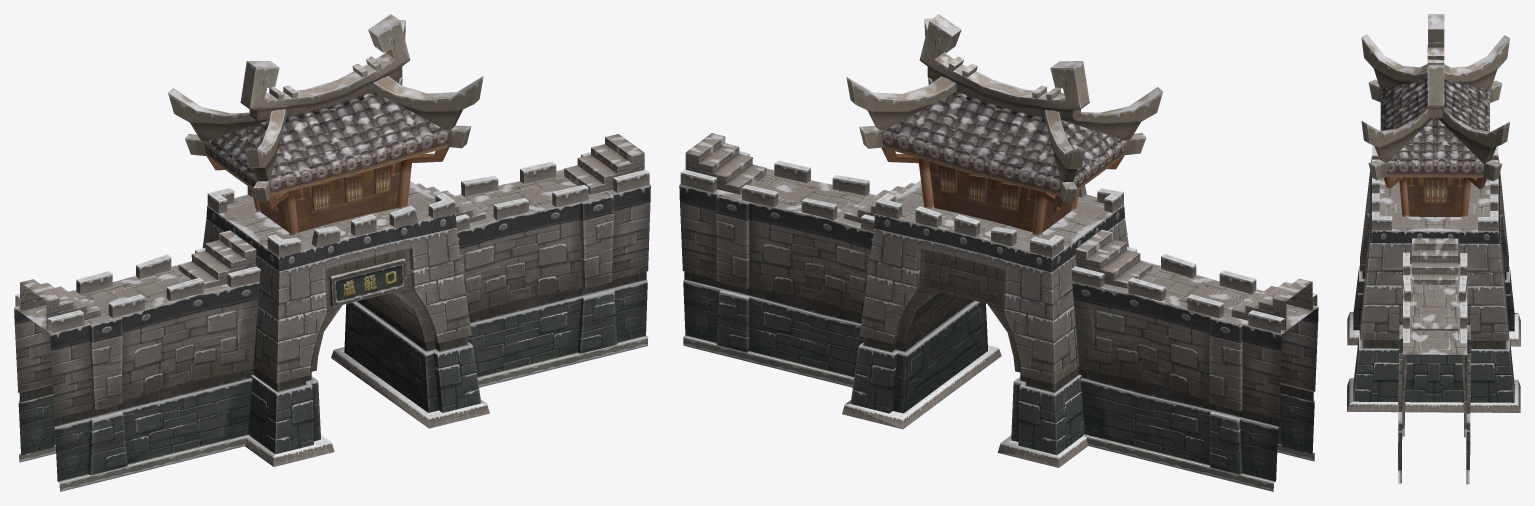
File: door.obj
The picture shows the model from 3 angles, left to right: view 1: azimuth 30°, elevation 25°; view 2: azimuth 150°, elevation 25°; view 3: azimuth 270°, elevation 25°; orthographic projection. The views are drawn at different scales.
Parts seen in each view (by area): view 1: group pasted__DrawCall_0554, group pasted__DrawCall_0560, group pasted__DrawCall_0566, group pasted__DrawCall_0565, group pasted__DrawCall_0573, group pasted__DrawCall_0513, group pasted__DrawCall_0514, group pasted__DrawCall_0576, group pasted__DrawCall_0570, group pasted__DrawCall_0552, group pasted__DrawCall_0558, group pasted__DrawCall_0572 (+18 smaller); view 2: group pasted__DrawCall_0554, group pasted__DrawCall_0560, group pasted__DrawCall_0566, group pasted__DrawCall_0565, group pasted__DrawCall_0529, pasted__DrawCall_0508 group, group pasted__DrawCall_0509, group pasted__DrawCall_0532, group pasted__DrawCall_0552, group pasted__DrawCall_0570, group pasted__DrawCall_0558, group pasted__DrawCall_0553 (+17 smaller); view 3: group pasted__DrawCall_0566, group pasted__DrawCall_0574, group pasted__DrawCall_0530, group pasted__DrawCall_0565, group pasted__DrawCall_0559, group pasted__DrawCall_0561, group pasted__DrawCall_0560, group pasted__DrawCall_0570, group pasted__DrawCall_0572, group pasted__DrawCall_0558, group pasted__DrawCall_0533, group pasted__DrawCall_0577 (+11 smaller).
Part boxes in pixels (x1,y1,x2,y2): group pasted__DrawCall_0554: [14, 282, 259, 481]; group pasted__DrawCall_0560: [457, 185, 650, 376]; group pasted__DrawCall_0566: [168, 14, 483, 201]; group pasted__DrawCall_0565: [204, 91, 448, 195]; group pasted__DrawCall_0573: [366, 213, 481, 412]; group pasted__DrawCall_0513: [243, 231, 368, 454]; group pasted__DrawCall_0514: [248, 255, 279, 453]; group pasted__DrawCall_0576: [382, 292, 438, 412]; group pasted__DrawCall_0570: [259, 161, 401, 232]; group pasted__DrawCall_0552: [15, 248, 260, 333]; group pasted__DrawCall_0558: [456, 152, 649, 231]; group pasted__DrawCall_0572: [207, 186, 455, 257]; group pasted__DrawCall_0554: [1072, 282, 1318, 481]; group pasted__DrawCall_0560: [679, 185, 873, 376]; group pasted__DrawCall_0566: [846, 14, 1162, 202]; group pasted__DrawCall_0565: [881, 92, 1127, 196]; group pasted__DrawCall_0529: [850, 214, 964, 413]; pasted__DrawCall_0508 group: [962, 232, 1088, 454]; group pasted__DrawCall_0509: [1051, 255, 1084, 454]; group pasted__DrawCall_0532: [893, 292, 949, 413]; group pasted__DrawCall_0552: [1071, 247, 1317, 333]; group pasted__DrawCall_0570: [929, 161, 1072, 231]; group pasted__DrawCall_0558: [680, 151, 874, 231]; group pasted__DrawCall_0553: [1079, 264, 1318, 334]; group pasted__DrawCall_0566: [1361, 14, 1509, 181]; group pasted__DrawCall_0574: [1353, 243, 1434, 402]; group pasted__DrawCall_0530: [1434, 243, 1514, 402]; group pasted__DrawCall_0565: [1380, 79, 1490, 177]; group pasted__DrawCall_0559: [1399, 264, 1470, 354]; group pasted__DrawCall_0561: [1412, 238, 1458, 331]; group pasted__DrawCall_0560: [1398, 282, 1470, 482]; group pasted__DrawCall_0570: [1406, 177, 1463, 216]; group pasted__DrawCall_0572: [1371, 145, 1498, 231]; group pasted__DrawCall_0558: [1402, 252, 1467, 353]; group pasted__DrawCall_0533: [1435, 192, 1498, 231]; group pasted__DrawCall_0577: [1372, 191, 1435, 231].
Bounding box in the file's own units: 41.49 × 24.57 × 11.76.
